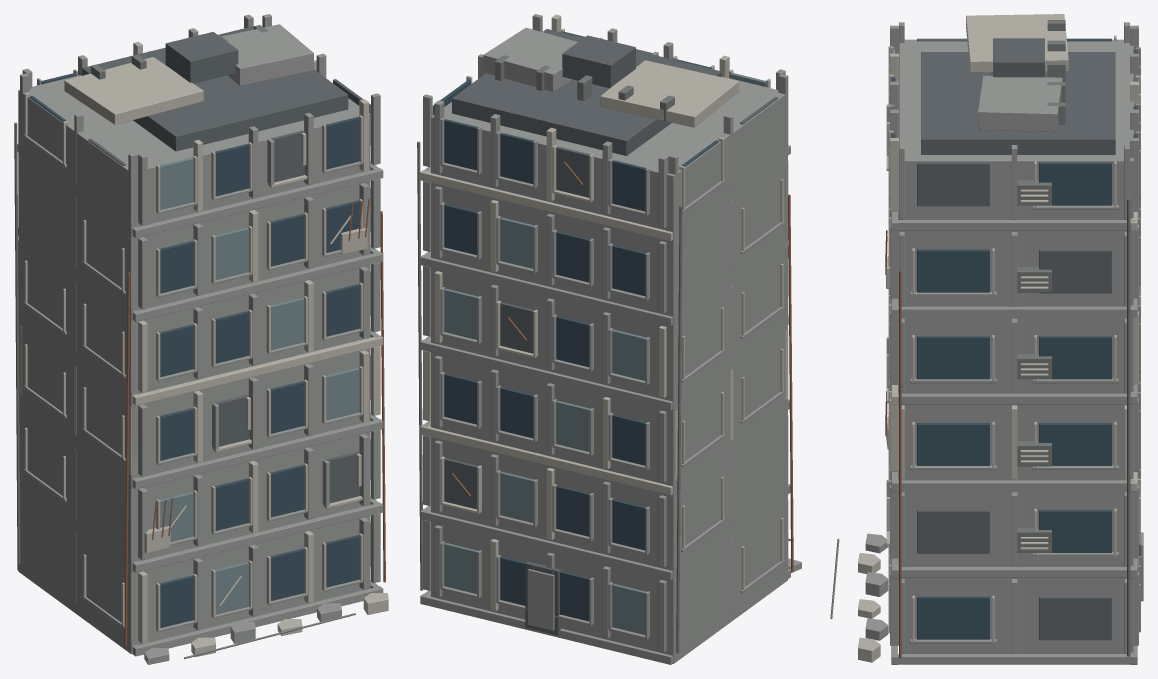
Rendered from Apoc_Building_04_Industrial_Hospital_Ruin.fbx.
The picture shows the model from 3 angles, left to right: view 1: azimuth 30°, elevation 25°; view 2: azimuth 150°, elevation 25°; view 3: azimuth 270°, elevation 25°; orthographic projection. The views are drawn at different scales.
Visible parts, largest first — view 1: Apoc_Building_04_Industrial_Hospital_Ruin; view 2: Apoc_Building_04_Industrial_Hospital_Ruin; view 3: Apoc_Building_04_Industrial_Hospital_Ruin.
Boxes of the visible parts, x1=… form: Apoc_Building_04_Industrial_Hospital_Ruin: x1=14, y1=14, x2=388, y2=664; Apoc_Building_04_Industrial_Hospital_Ruin: x1=417, y1=14, x2=801, y2=664; Apoc_Building_04_Industrial_Hospital_Ruin: x1=830, y1=14, x2=1143, y2=664.
Bounding box in the file's own units: 6.55 × 12.78 × 6.54.
